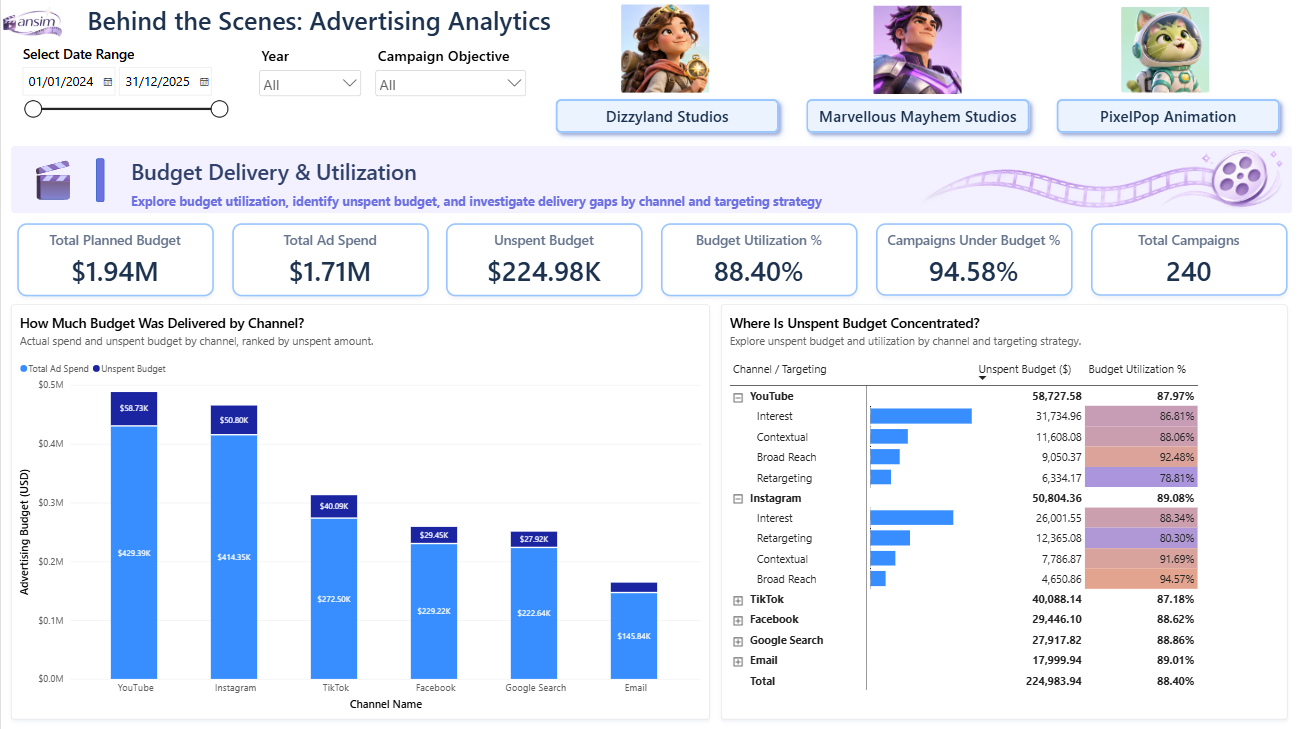

The dashboard page shown, as its layout file describes it:
{"tool":"powerbi","page":{"name":"5. Budget Delivery","canvas":[1920,1080],"ordinal":4},"visuals":[{"type":"shape","box":[15,220.1,1892.9,100],"z":0},{"type":"image","box":[916.4,11,130,130],"z":1000},{"type":"image","box":[1654,14.5,130.3,130.3],"z":2000},{"type":"image","box":[1288.8,12.8,130,130],"z":3000},{"type":"textbox","box":[191.7,236.8,640.6,56.1],"z":4000},{"type":"shape","box":[140.4,239,12.5,64.7],"z":5000},{"type":"textbox","box":[191.8,287.7,1073.1,32.6],"z":6000},{"type":"textbox","box":[36,226.5,89.8,85.6],"z":7000},{"type":"image","box":[1356,220.1,544.7,99.5],"z":8000},{"type":"columnChart","title":"How Much Budget Was Delivered by Channel?","fields":{"Category":["Dim_Channel.Channel_Name"],"Y":["_Measures.Total Ad Spend","_Measures.Unspent Budget"]},"box":[14.8,454.2,1032.2,613],"z":9000},{"type":"cardVisual","fields":{"Data":["_Measures.Total Planned Budget"]},"box":[23.2,333.9,290,107.7],"z":10000},{"type":"cardVisual","fields":{"Data":["_Measures.Budget Utilization %"]},"box":[975.7,333.9,290,107.7],"z":11000},{"type":"cardVisual","fields":{"Data":["_Measures.Total Ad Spend"]},"box":[340.7,333.9,290,107.7],"z":12000},{"type":"cardVisual","fields":{"Data":["_Measures.Unspent Budget"]},"box":[658.2,333.9,290,107.7],"z":13000},{"type":"cardVisual","fields":{"Data":["_Measures.Campaigns Under Budget %"]},"box":[1293.2,333.9,290.3,107.3],"z":14000},{"type":"cardVisual","fields":{"Data":["_Measures.Total Campaigns"]},"box":[1611,333.9,290.3,107.3],"z":15000},{"type":"textbox","box":[126.7,9,705.8,56.1],"z":16000},{"type":"image","box":[1.8,0,89.9,73.4],"z":17000},{"type":"advancedSlicerVisual","fields":{"Values":["Dim_Studio.Studio_Name"]},"box":[803.5,133.9,1103.9,82],"z":18000},{"type":"slicer","title":"Date","fields":{"Values":["Dim_Date.Date"]},"box":[24.5,69.7,314.7,143.2],"z":19000},{"type":"slicer","fields":{"Values":["Dim_Campaign.Campaign_Objective"]},"box":[548.4,71.6,231.8,122.5],"z":20000},{"type":"slicer","fields":{"Values":["Dim_Date.Year"]},"box":[376.9,71.6,160.2,122.5],"z":21000},{"type":"pivotTable","title":"Where Is Unspent Budget Concentrated?","fields":{"Rows":["Dim_Channel.Channel_Name","Dim_Campaign.Targeting_Strategy"],"Values":["_Measures.Budget Shortfall Bars","_Measures.Budget Variance ($)","_Measures.Budget Utilization %"]},"box":[1063.6,454.2,836.5,613],"z":22000}]}

Visuals, with their boxes in screenshot pixels (x1, y1, x2, y2), scaled from the page's 1920x1080 canvas onto the 1297x729 screenshot:
shape: [10, 149, 1289, 216]
image: [619, 7, 707, 95]
image: [1117, 10, 1205, 98]
image: [871, 9, 958, 96]
textbox: [129, 160, 562, 198]
shape: [95, 161, 103, 205]
textbox: [130, 194, 854, 216]
textbox: [24, 153, 85, 211]
image: [916, 149, 1284, 216]
"How Much Budget Was Delivered by Channel?" columnChart: [10, 307, 707, 720]
cardVisual - _Measures.Total Planned Budget: [16, 225, 212, 298]
cardVisual - _Measures.Budget Utilization %: [659, 225, 855, 298]
cardVisual - _Measures.Total Ad Spend: [230, 225, 426, 298]
cardVisual - _Measures.Unspent Budget: [445, 225, 641, 298]
cardVisual - _Measures.Campaigns Under Budget %: [874, 225, 1070, 298]
cardVisual - _Measures.Total Campaigns: [1088, 225, 1284, 298]
textbox: [86, 6, 562, 44]
image: [1, 0, 62, 50]
advancedSlicerVisual - Dim_Studio.Studio_Name: [543, 90, 1288, 146]
"Date" slicer: [17, 47, 229, 144]
slicer - Dim_Campaign.Campaign_Objective: [370, 48, 527, 131]
slicer - Dim_Date.Year: [255, 48, 363, 131]
"Where Is Unspent Budget Concentrated?" pivotTable: [718, 307, 1284, 720]
